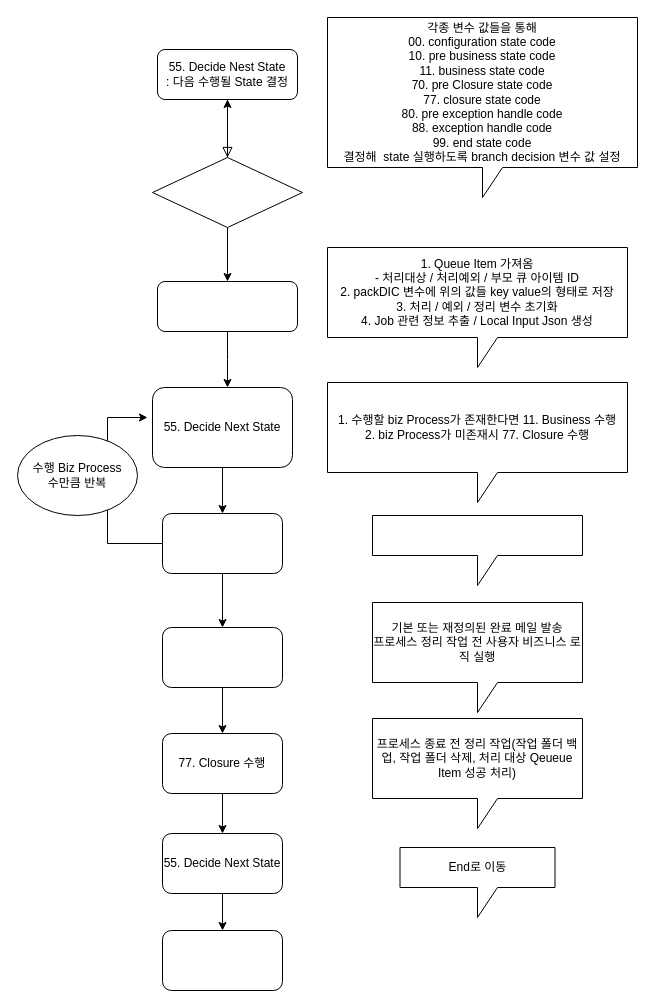
Image size: 655x1008. Some labels were removed from this diagram. The shapes that lost their labels are listed below. From the top down, each one's centre as x and y in pixels, then its label:
point 227,192: brnchDcsnSTR = "00"
point 227,306: 00. Configuration :변수 및 설정값 초기
point 222,543: 11. Business
point 477,550: CustomWorkflow (CP) 수행
point 222,657: 70. Pre Closure 수행
point 222,960: End
